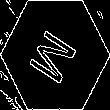M_SE: (26, 22, 84, 88)
